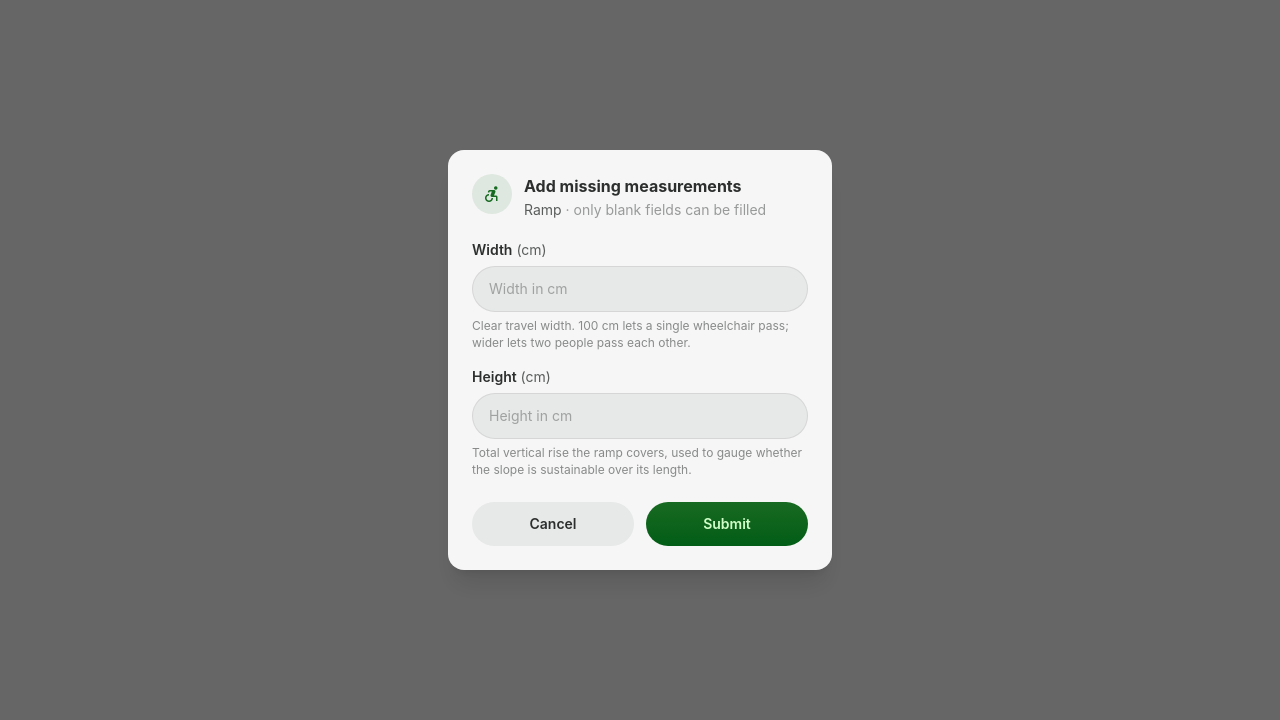
ContributeMeasurementsPanel › error handling › does not close the panel when the API rejects
This screenshot has width=1280, height=720.
Type "120" into the number field with placeholder "Width in cm" at (640, 289), box [472,266,808,312]
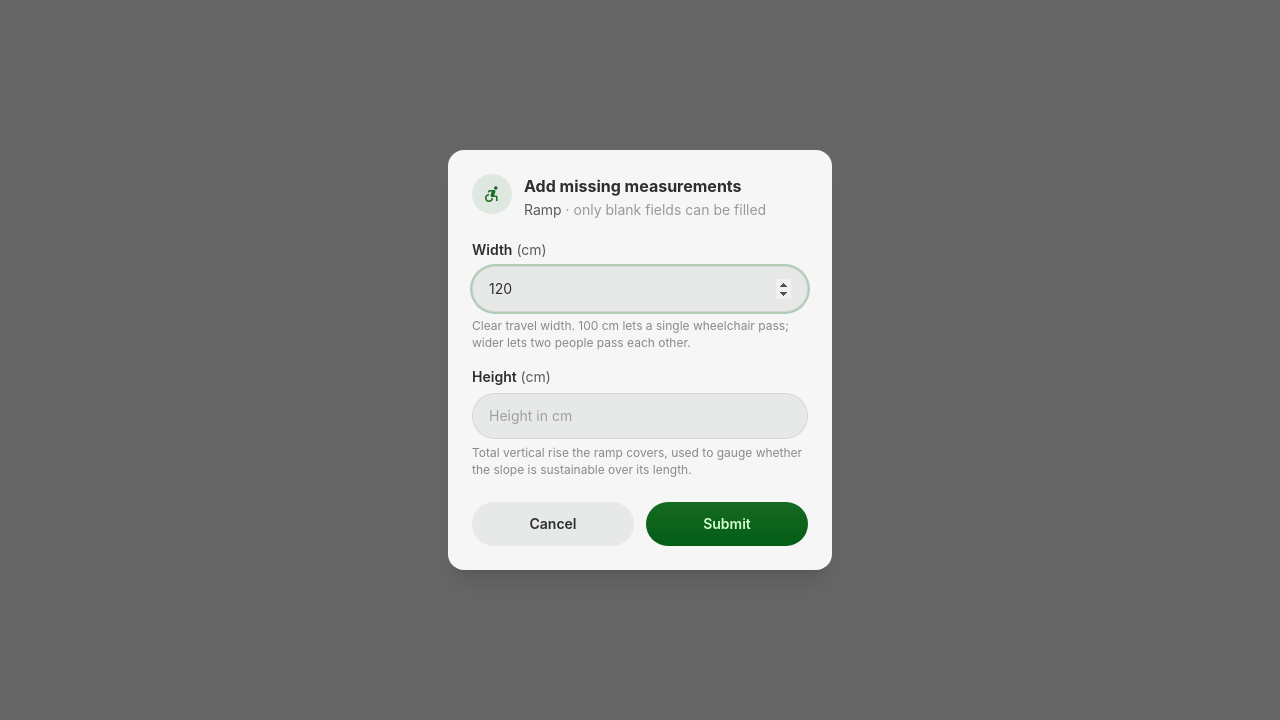
Click the button "Submit" at (727, 524), box [646,502,808,546]
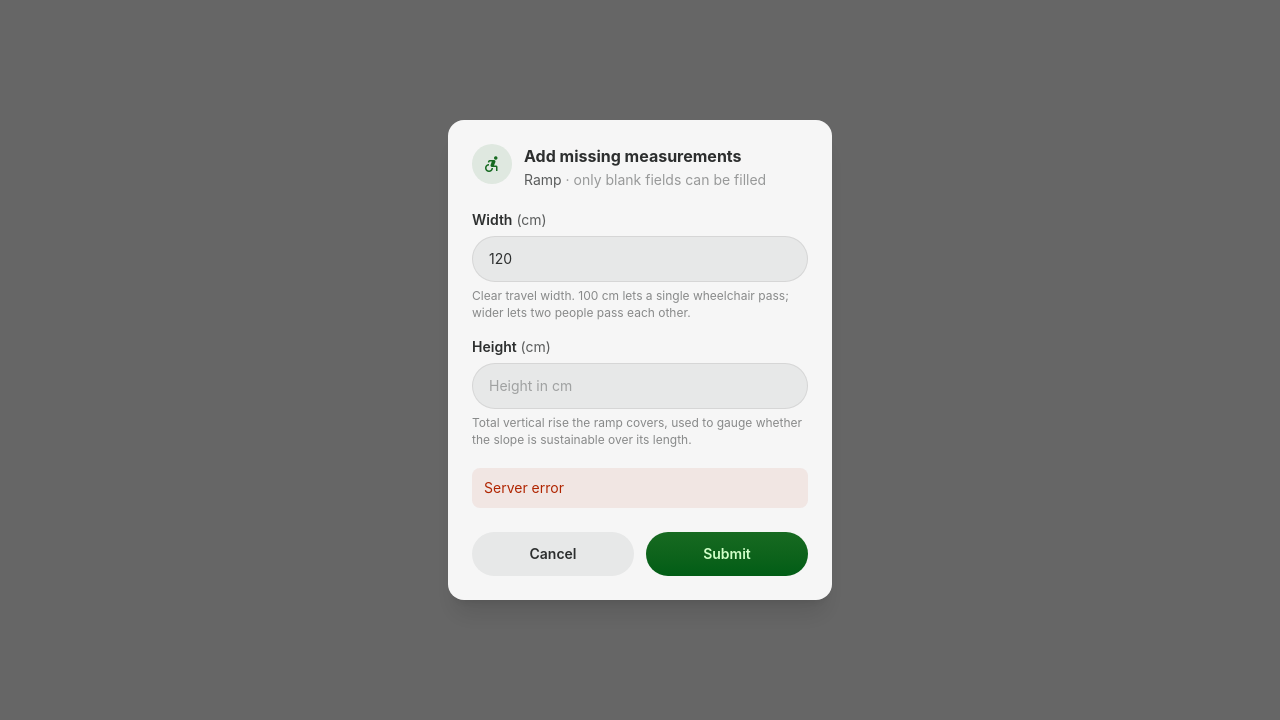
Check: the message "Server error" is shown, box [472,468,808,508]
